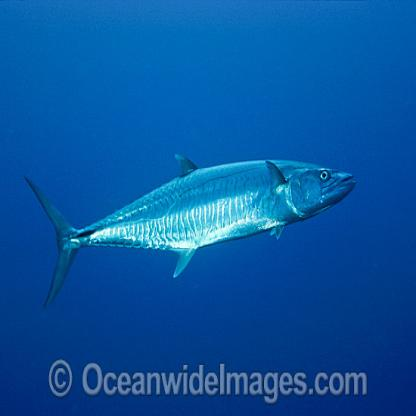Scombridae -Tunas-: (17, 132, 357, 325)
